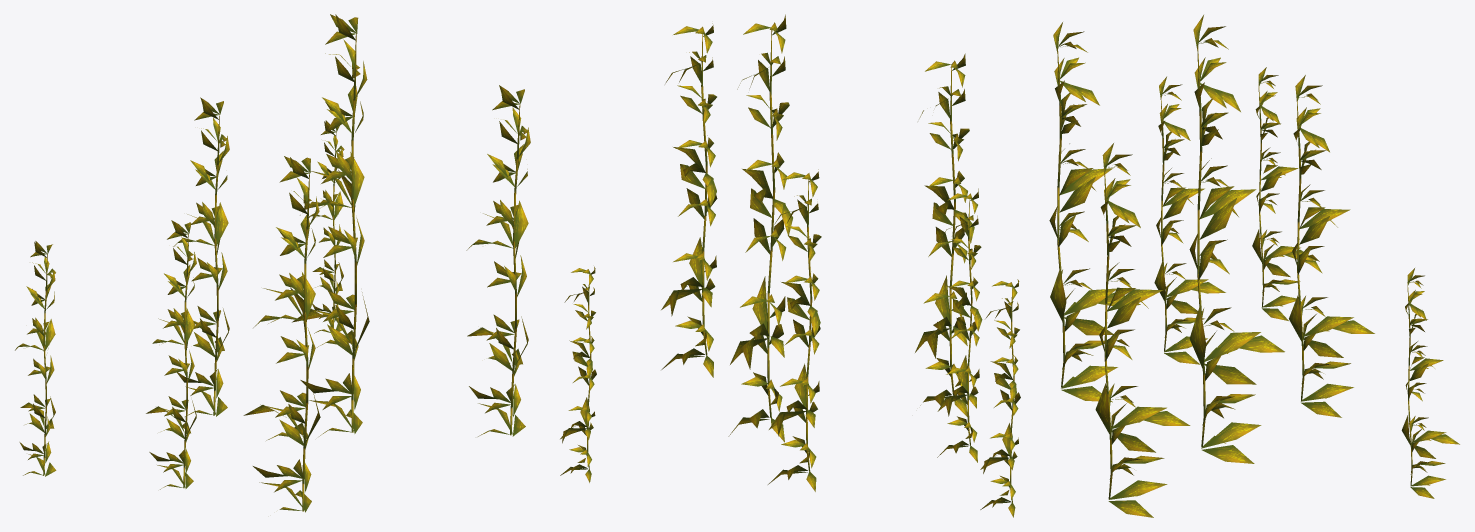
The model's file is seaweed7.obj.
3 renders of one model, left to right at view 1: azimuth 30°, elevation 25°; view 2: azimuth 150°, elevation 25°; view 3: azimuth 270°, elevation 25°, orthographic. The views are drawn at different scales.
Parts seen in each view (by area): view 1: Cylinder017, Cylinder014, Cylinder015, Cylinder019; view 2: Cylinder017, Cylinder014, Cylinder015, Cylinder019; view 3: Cylinder017, Cylinder015, Cylinder014, Cylinder019, Plane444, Plane450, Plane490, Plane443, Plane481, Plane449, Plane456, Plane221 (+6 smaller).
Part boxes in pixels (x1=…): Cylinder017: x1=351, y1=33, x2=356, y2=432; Cylinder014: x1=302, y1=172, x2=309, y2=511; Cylinder015: x1=510, y1=104, x2=520, y2=435; Cylinder019: x1=213, y1=115, x2=219, y2=415; Cylinder017: x1=767, y1=30, x2=775, y2=418; Cylinder014: x1=949, y1=64, x2=955, y2=395; Cylinder015: x1=701, y1=34, x2=707, y2=355; Cylinder019: x1=806, y1=180, x2=812, y2=471; Cylinder017: x1=1197, y1=43, x2=1205, y2=447; Cylinder015: x1=1104, y1=167, x2=1112, y2=498; Cylinder014: x1=1057, y1=47, x2=1065, y2=387; Cylinder019: x1=1296, y1=97, x2=1304, y2=400; Plane444: x1=1201, y1=422, x2=1261, y2=448; Plane450: x1=1204, y1=332, x2=1260, y2=361; Plane490: x1=1189, y1=306, x2=1206, y2=368; Plane443: x1=1202, y1=445, x2=1254, y2=463; Plane481: x1=1199, y1=197, x2=1237, y2=239; Plane449: x1=1204, y1=364, x2=1256, y2=384; Plane456: x1=1200, y1=189, x2=1256, y2=218; Plane221: x1=1061, y1=365, x2=1117, y2=388.
Size of the model in its own units: 140 by 133 by 114.
1 material, 1 textured.
